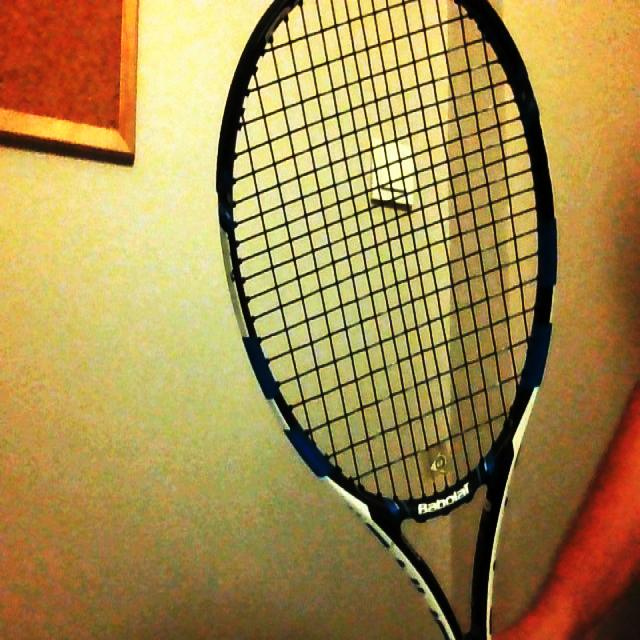TennisRacket: (218, 0, 560, 640)
